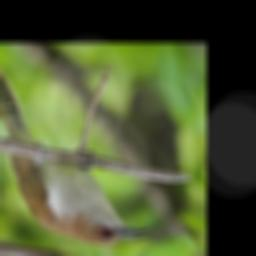Cuckoo: (0, 59, 151, 246)
